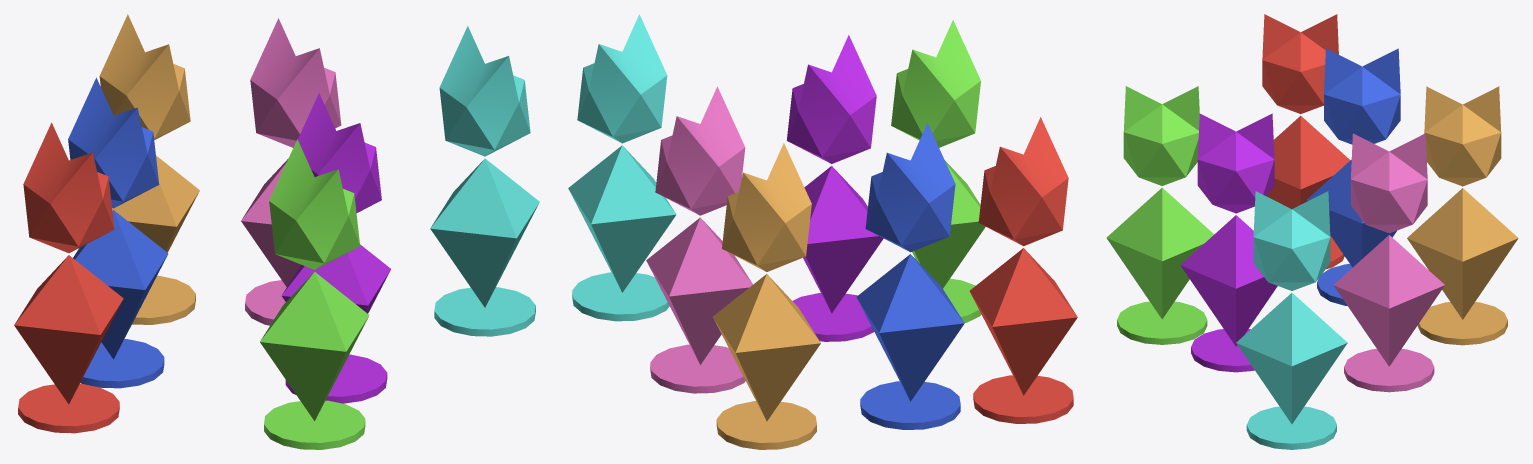
The model's file is FodderTokens.fbx.
3 views of the same model, side by side, from view 1: azimuth 30°, elevation 25°; view 2: azimuth 150°, elevation 25°; view 3: azimuth 270°, elevation 25° (orthographic). The views are drawn at different scales.
Parts seen in each view (by area): view 1: Cube, Cube.002, Cube.003, Cube.004, Cube.006, Cube.001, Cube.005; view 2: Cube.006, Cube.004, Cube.003, Cube, Cube.001, Cube.005, Cube.002; view 3: Cube, Cube.001, Cube.006, Cube.002, Cube.005, Cube.003, Cube.004.
Part boxes in pixels (x1,y1,x2,y2): Cube: (430,26,539,336); Cube.002: (260,139,369,449); Cube.003: (14,122,123,433); Cube.004: (68,77,168,388); Cube.006: (99,14,199,324); Cube.001: (241,18,341,325); Cube.005: (281,93,390,403); Cube.006: (713,143,820,449); Cube.004: (856,123,964,429); Cube.003: (969,117,1077,423); Cube: (568,14,676,321); Cube.001: (646,86,752,393); Cube.005: (786,35,883,341); Cube.002: (891,20,985,322); Cube: (1236,191,1347,449); Cube.001: (1333,133,1444,392); Cube.006: (1407,86,1518,345); Cube.002: (1106,86,1213,344); Cube.005: (1180,113,1277,372); Cube.003: (1262,14,1350,269); Cube.004: (1306,48,1400,305).
Bounding box in the file's own units: 1174 × 590 × 913.
